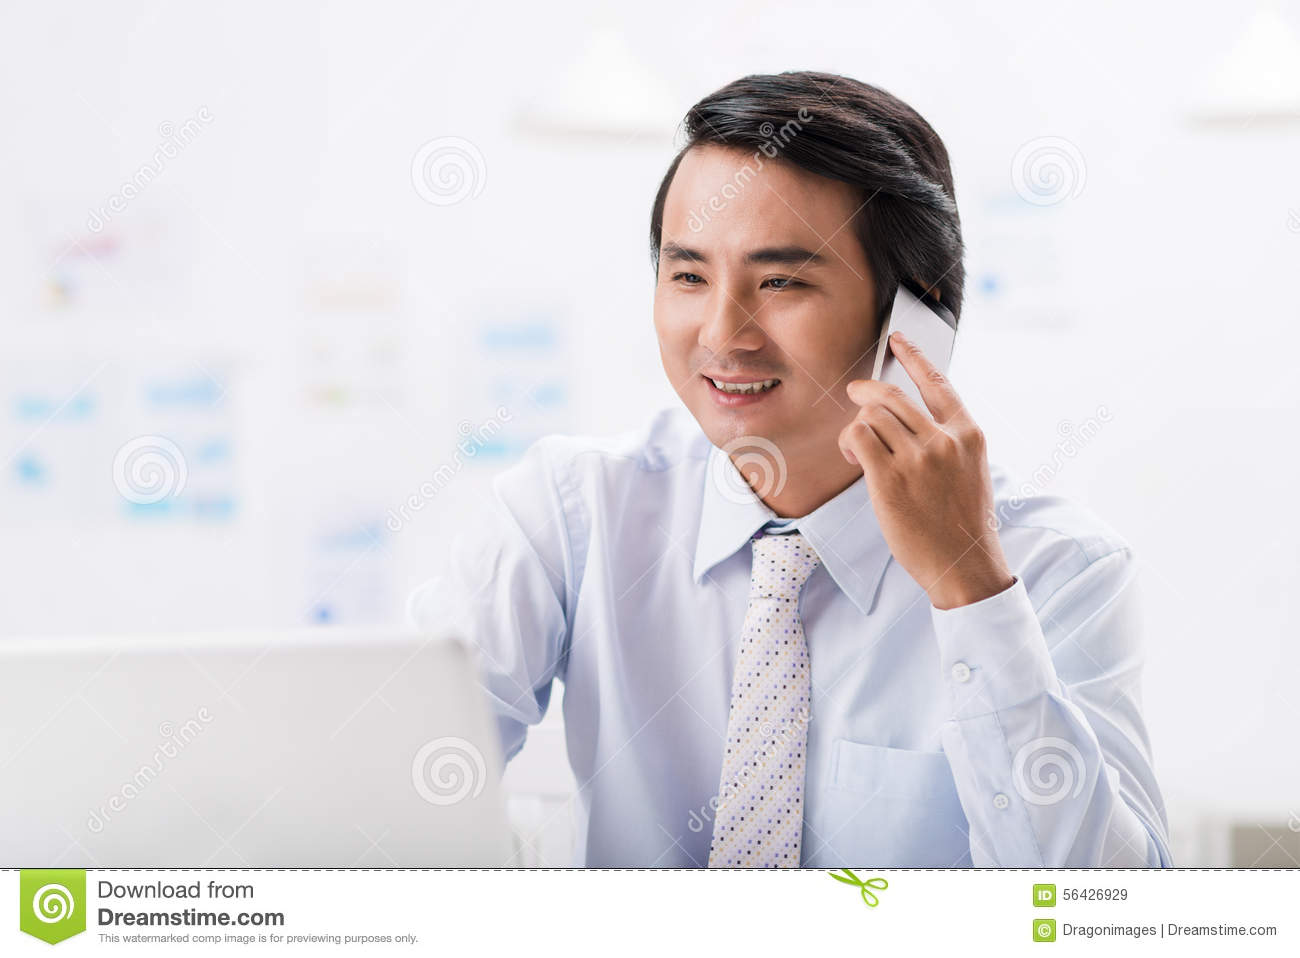phone: (858, 273, 957, 460)
talk: (649, 234, 1011, 600)
